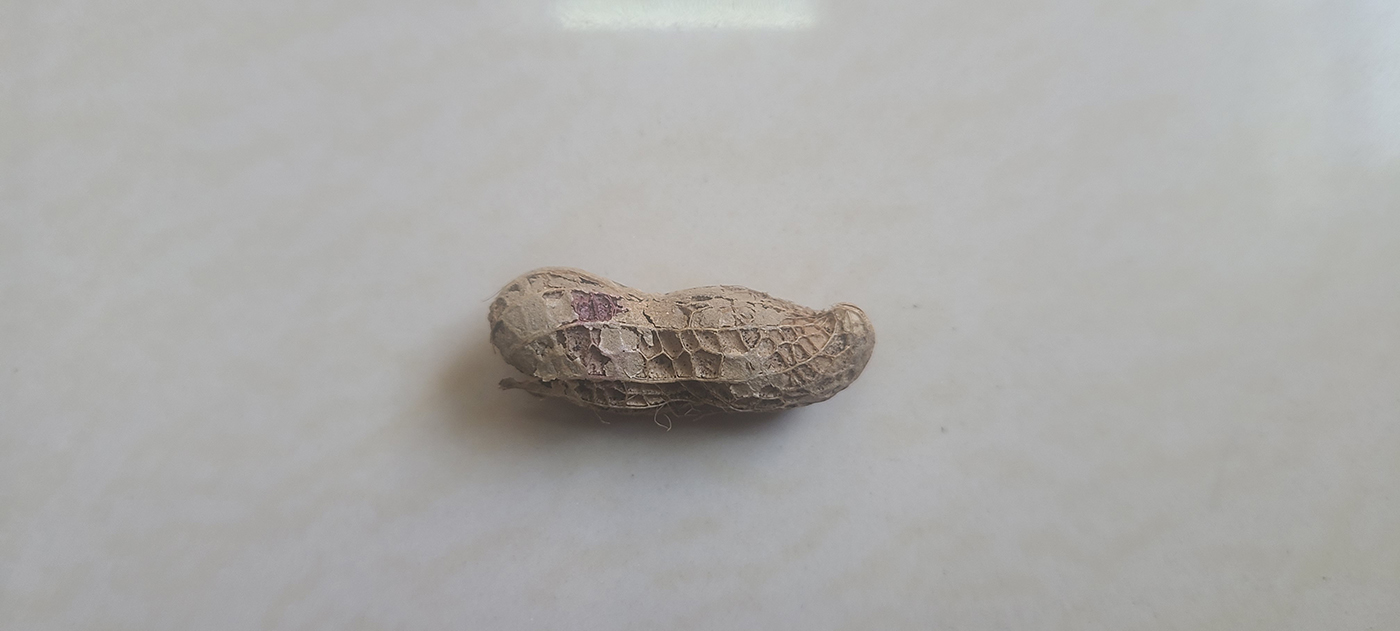l: (480, 267, 880, 422)
